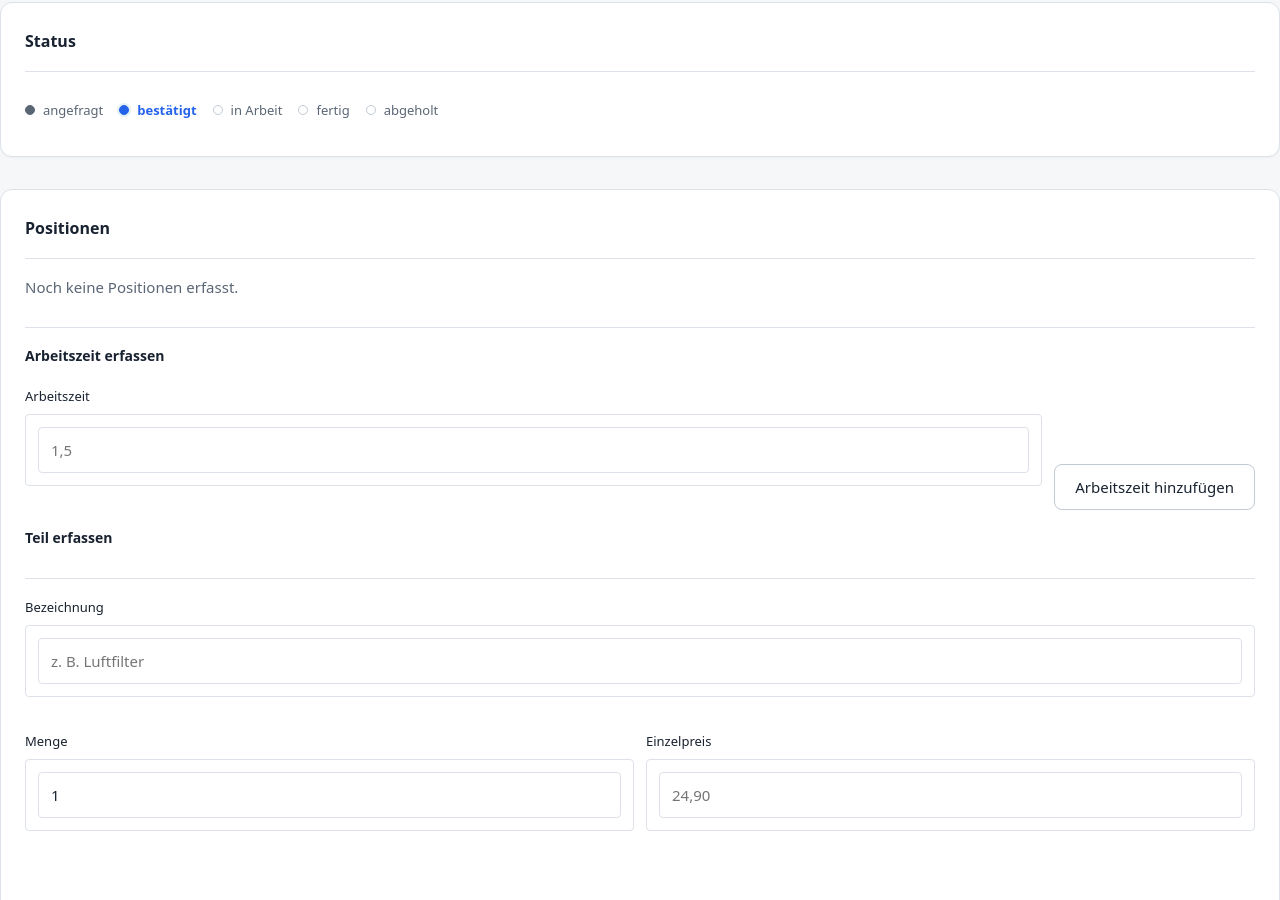
OrderDetailPage › adds a labor position and shows it in the list
(page scrolled)
Check: the text "Noch keine Positionen erfasst." is shown, box [25,277,238,297]
Type "1.5" into the number field labelled "Arbeitszeit" at (534, 450), box [38,427,1029,473]
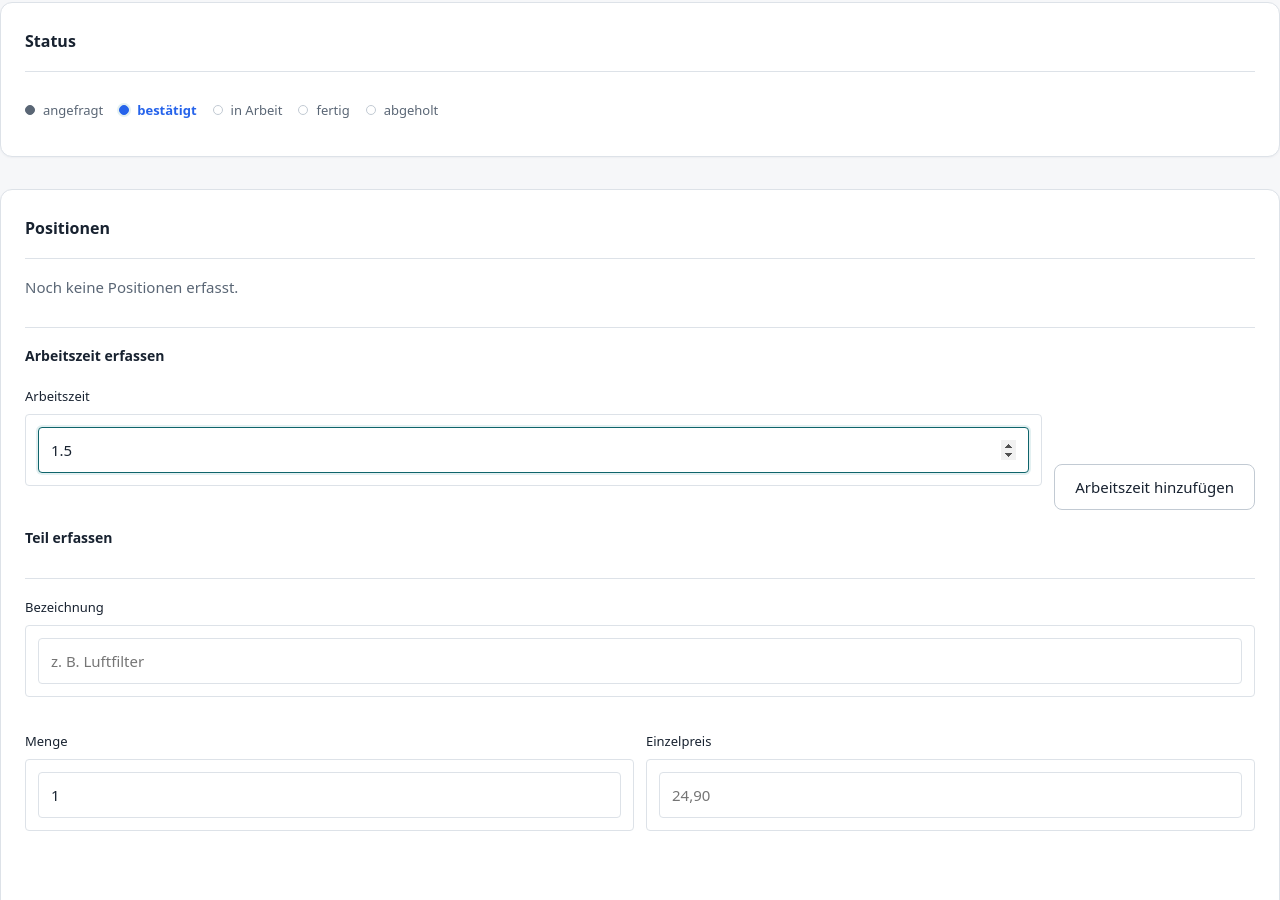
Click the button "Arbeitszeit hinzufügen" at (1155, 487), box [1054,464,1255,510]
(page scrolled)
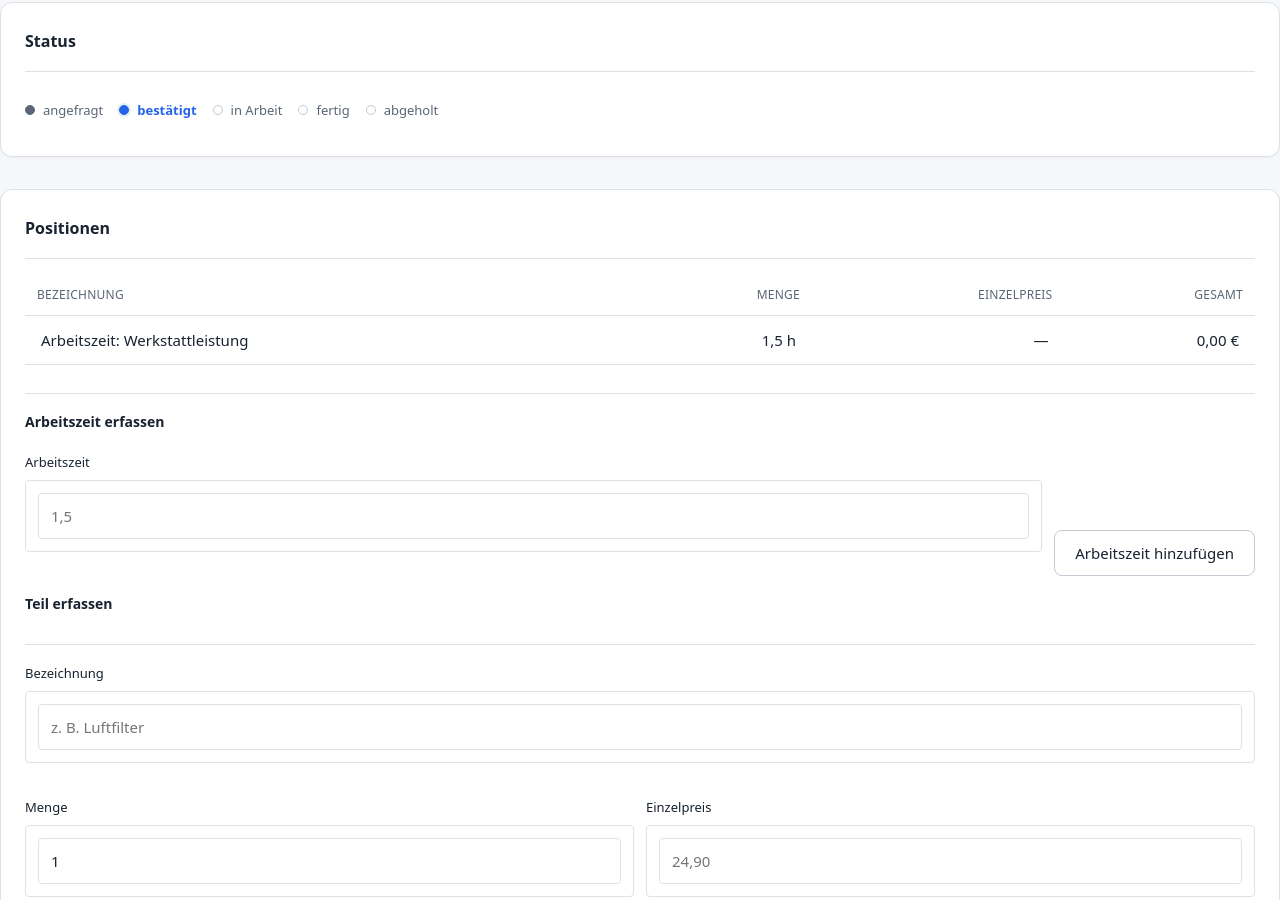
Check: the text "Arbeitszeit: Werkstattleistung" is shown, box [25,316,639,364]
Check: the text "Noch keine Positionen erfasst." is gone
